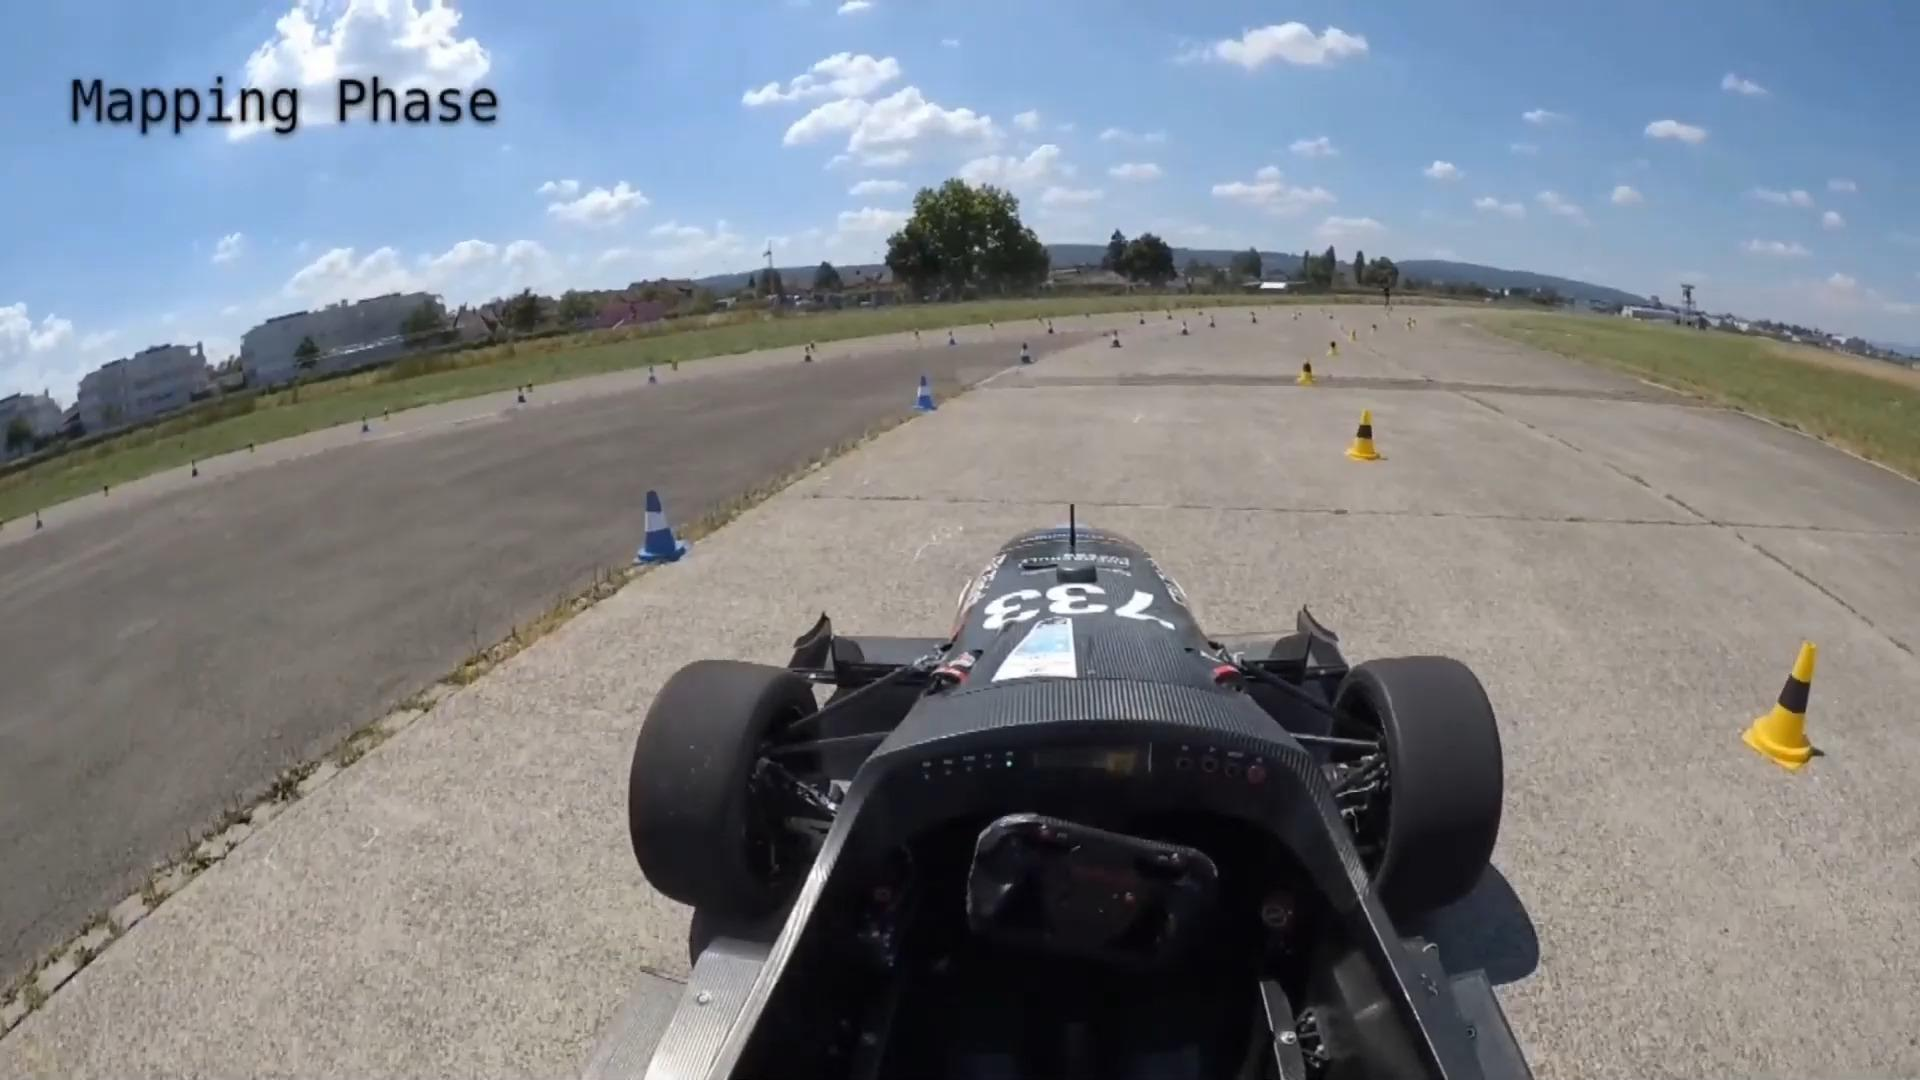blue_cone: (628, 485, 695, 571), (907, 371, 943, 415), (1014, 342, 1035, 367), (1108, 331, 1124, 349)
yellow_cone: (1735, 636, 1821, 770), (1338, 406, 1390, 465), (1294, 356, 1316, 386), (1325, 338, 1341, 357)
